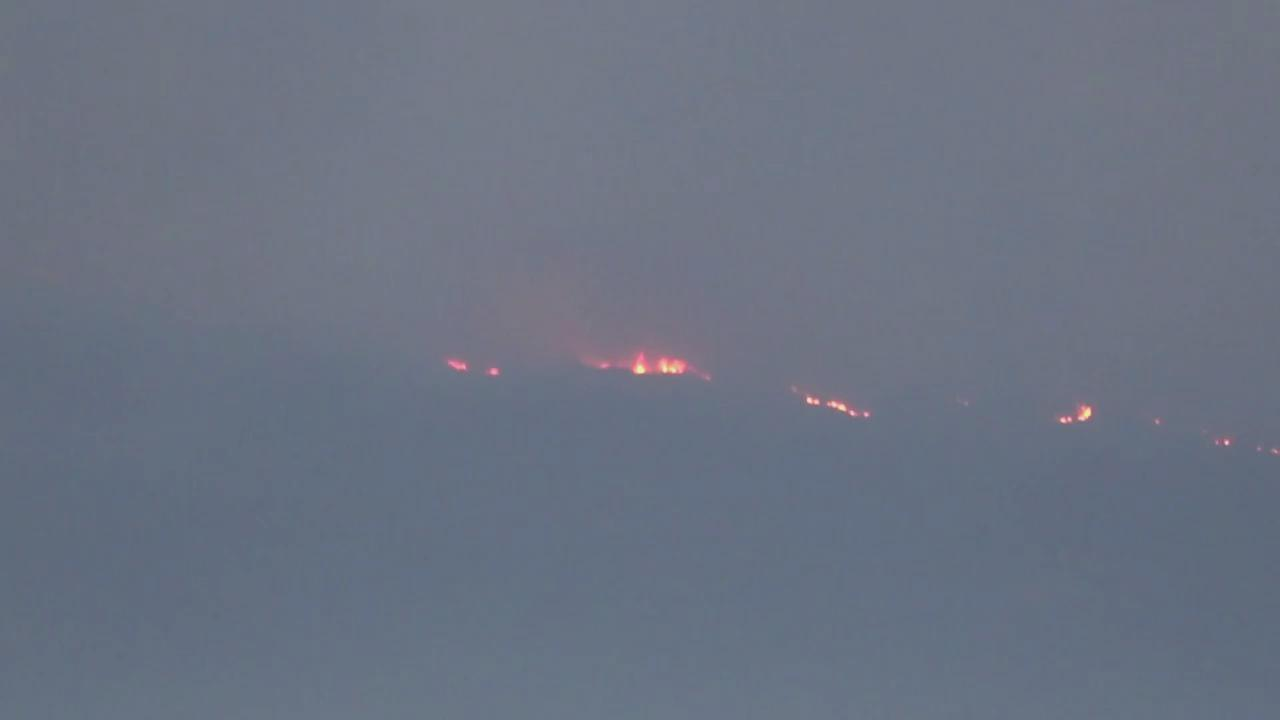fire: (592, 349, 709, 380), (803, 394, 870, 420), (1058, 401, 1094, 428), (444, 358, 468, 371)
